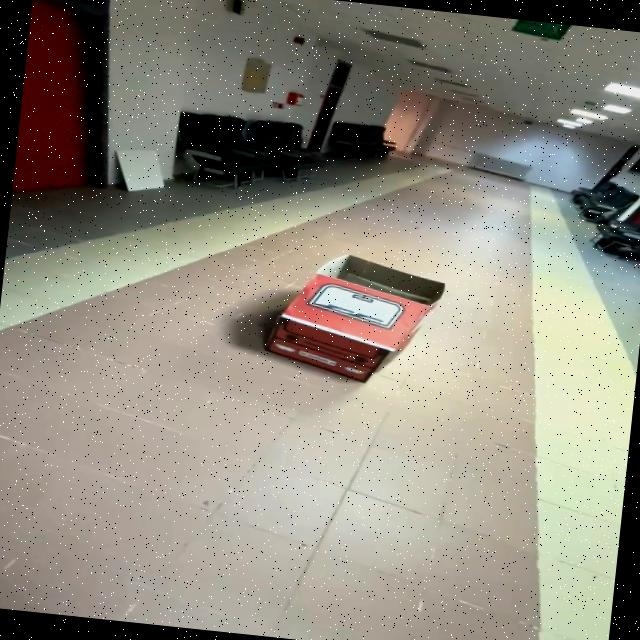red_car: (249, 236, 458, 401)
